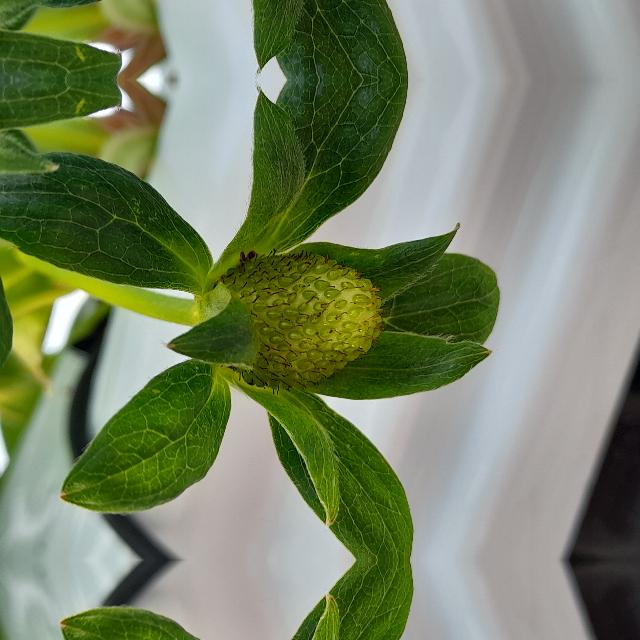Health_25: (205, 248, 383, 394)
